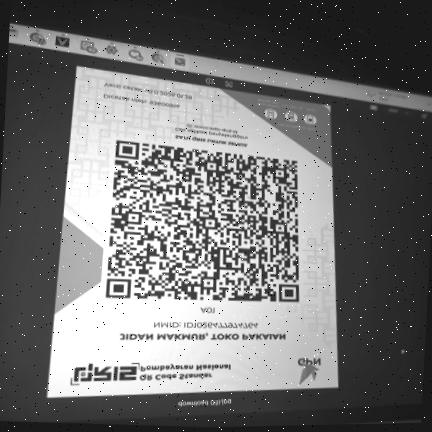Cara Pakai QRIS: (252, 95, 330, 138)
Cek Aplikasi Penyelenggara: (171, 120, 254, 141)
Dicetak Oleh: (101, 91, 185, 112)
Logo GPN: (291, 354, 327, 386)
Logo dan deskripsi QRIS: (64, 360, 237, 390)
Nama Merchant: (113, 330, 290, 343)
National Merchant ID: (146, 320, 264, 330)
QR Code: (97, 135, 305, 305)
Slogan: (170, 133, 253, 150)
Terminal ID: (198, 305, 219, 314)
Versi Cetak: (102, 80, 196, 103)
